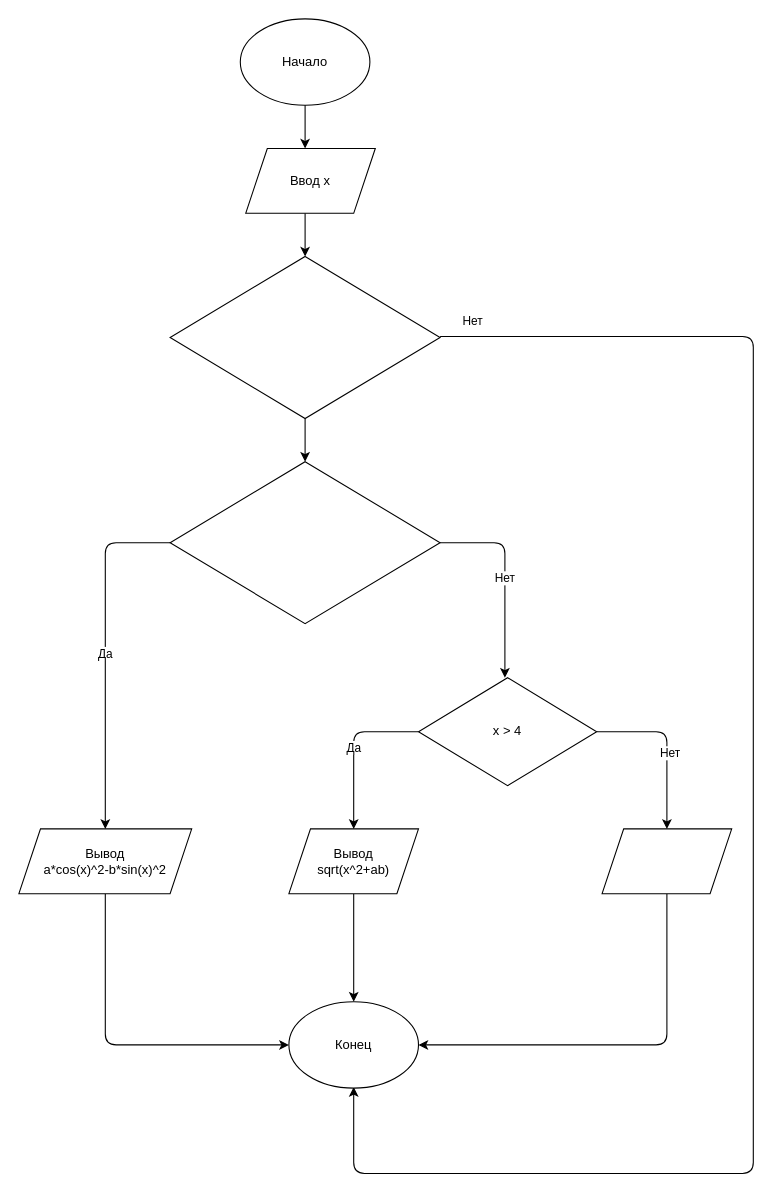
Image size: 781x1201. Some labels were removed from this diagram. Each missing label, with the box of its shape:
x <= 1: (169, 461, 440, 624)
Вывод b*ln(x+x^3): (601, 828, 732, 894)
Являются ли x числом: (169, 255, 440, 418)
